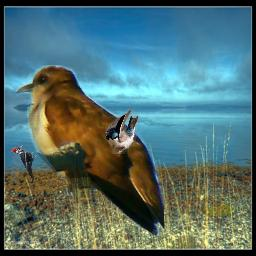Cuckoo: (16, 65, 164, 239)
Swallow: (105, 109, 139, 154)
Woodpecker: (11, 145, 37, 184)
